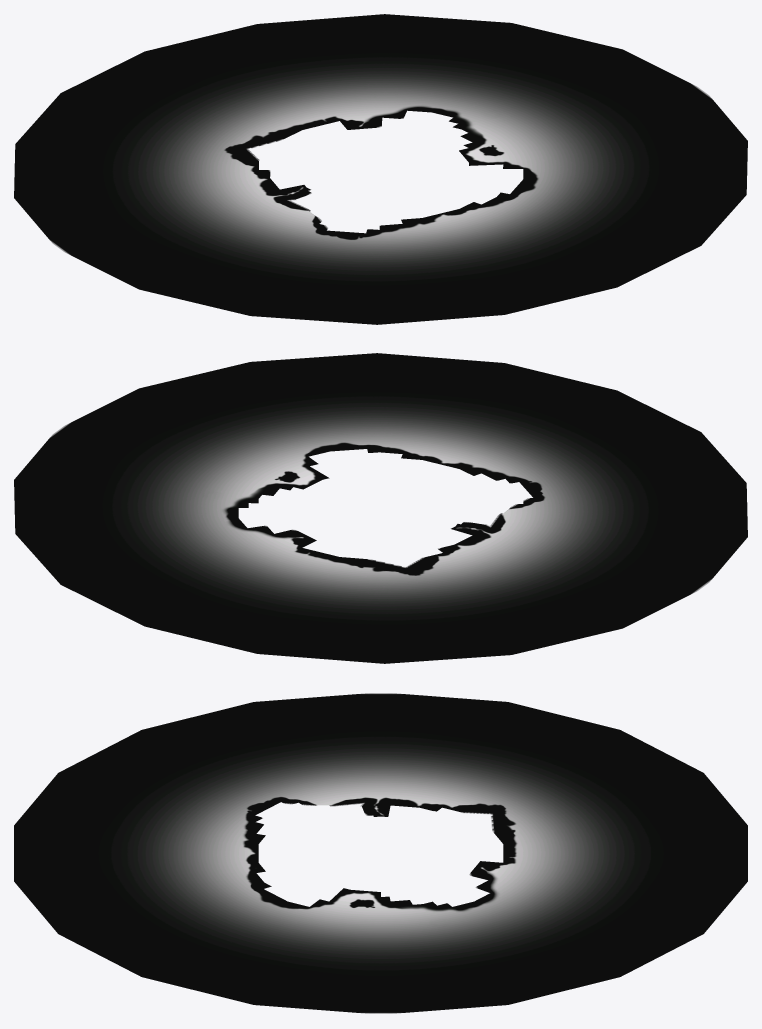
The model's file is Prop_Water02.glb.
The picture shows the model from 3 angles, top to bottom: view 1: azimuth 30°, elevation 25°; view 2: azimuth 150°, elevation 25°; view 3: azimuth 270°, elevation 25°; orthographic projection.
Visible parts, largest first — view 1: xiutz_water02; view 2: xiutz_water02; view 3: xiutz_water02.
Boxes of the visible parts, box(x1,y1,x2,y2) form: xiutz_water02: box(14, 14, 747, 324); xiutz_water02: box(14, 353, 747, 663); xiutz_water02: box(14, 693, 747, 1013).
Size of the model in its own units: 11467 by 0.00444 by 11032.
1 material, 1 textured.
